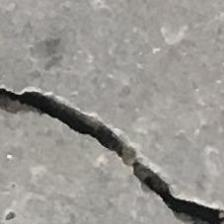Crack: (0, 81, 224, 224)
